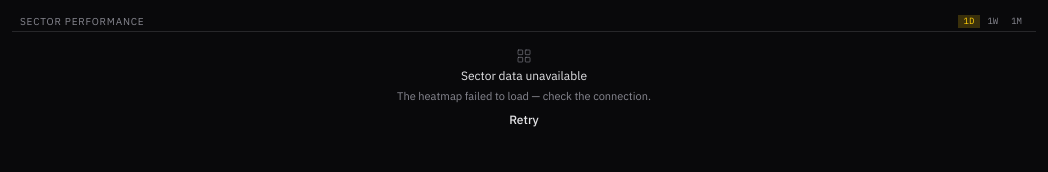
Test: Round 4 — error states carry a working Retry action › SectorHeatmapWidget: error → Retry click → refetch recovers the treemap
Check: the text "Sector data unavailable" is shown, box [461,68,587,85]
Click the button "Retry" at (524, 120), box [501,108,547,132]
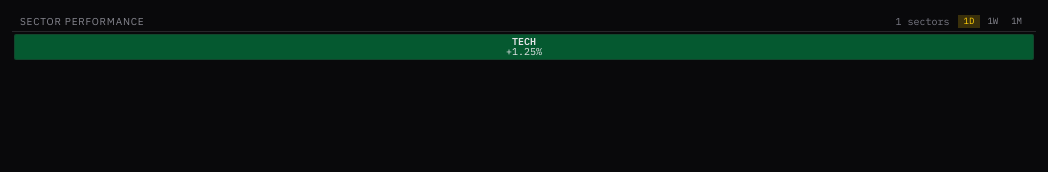
Check: the text "Tech" is shown, box [512,35,536,48]
